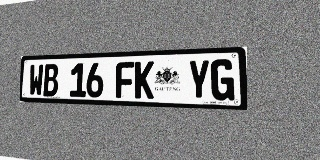1: (70, 63, 86, 97)
6: (86, 62, 104, 98)
B: (43, 64, 59, 96)
F: (116, 62, 134, 98)
G: (211, 59, 234, 101)
K: (135, 61, 154, 99)
W: (29, 64, 44, 96)
Y: (188, 59, 210, 100)
